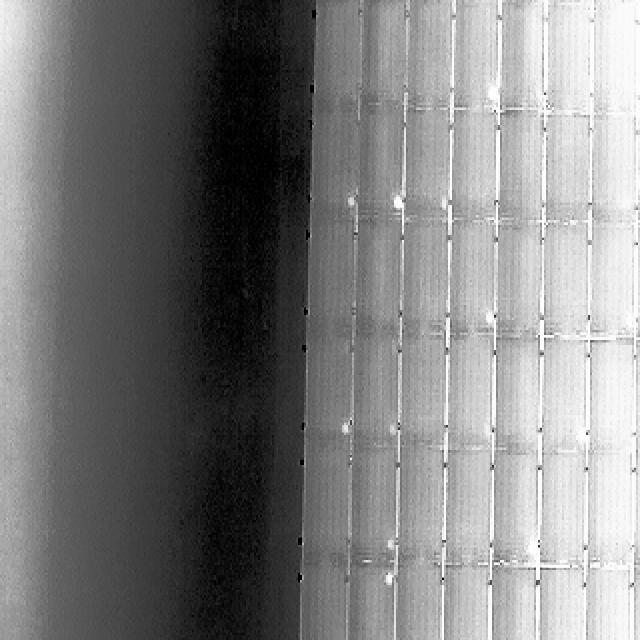Hotspots: (622, 310, 640, 335), (521, 536, 541, 556), (484, 83, 500, 102), (344, 192, 358, 211), (484, 305, 496, 325), (388, 197, 401, 213), (438, 196, 450, 213), (340, 419, 352, 435), (380, 568, 391, 585), (575, 425, 586, 442), (632, 170, 640, 192), (383, 536, 395, 550)
PV-modules: (314, 2, 368, 116), (488, 451, 540, 567), (441, 448, 491, 568), (397, 446, 448, 563), (492, 334, 542, 452), (310, 110, 363, 221), (582, 453, 633, 568), (540, 336, 590, 453), (349, 448, 399, 565), (584, 225, 634, 342), (583, 338, 634, 452), (494, 223, 544, 339), (301, 447, 350, 565), (308, 222, 357, 340), (351, 218, 400, 336), (443, 334, 493, 449), (351, 332, 401, 447), (588, 2, 637, 119), (402, 220, 451, 337), (399, 334, 450, 446), (538, 454, 588, 568), (357, 103, 406, 219), (498, 110, 548, 223), (452, 108, 502, 221), (542, 226, 591, 341), (446, 222, 495, 337), (545, 2, 594, 116), (545, 112, 594, 225), (406, 0, 457, 107), (500, 0, 550, 109), (303, 335, 352, 446), (404, 107, 452, 220), (358, 2, 408, 110), (587, 114, 635, 226), (450, 0, 497, 108), (392, 557, 444, 640), (344, 562, 396, 640), (296, 562, 346, 640), (486, 565, 538, 640), (534, 567, 586, 640), (440, 567, 492, 640), (580, 567, 630, 640), (630, 337, 640, 455), (630, 455, 640, 567), (626, 570, 640, 640), (632, 225, 640, 343), (632, 115, 640, 225), (634, 0, 640, 120)
